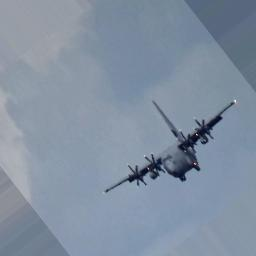Airplane: (103, 98, 237, 194)
